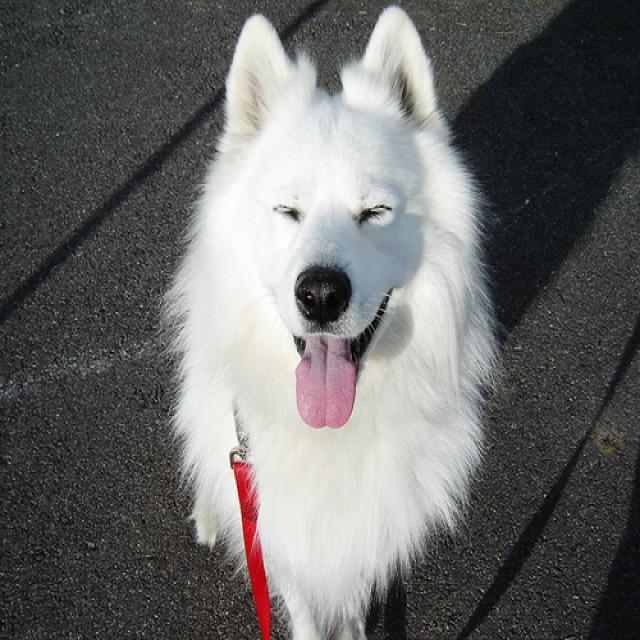dog-samoyed: (155, 2, 508, 637)
